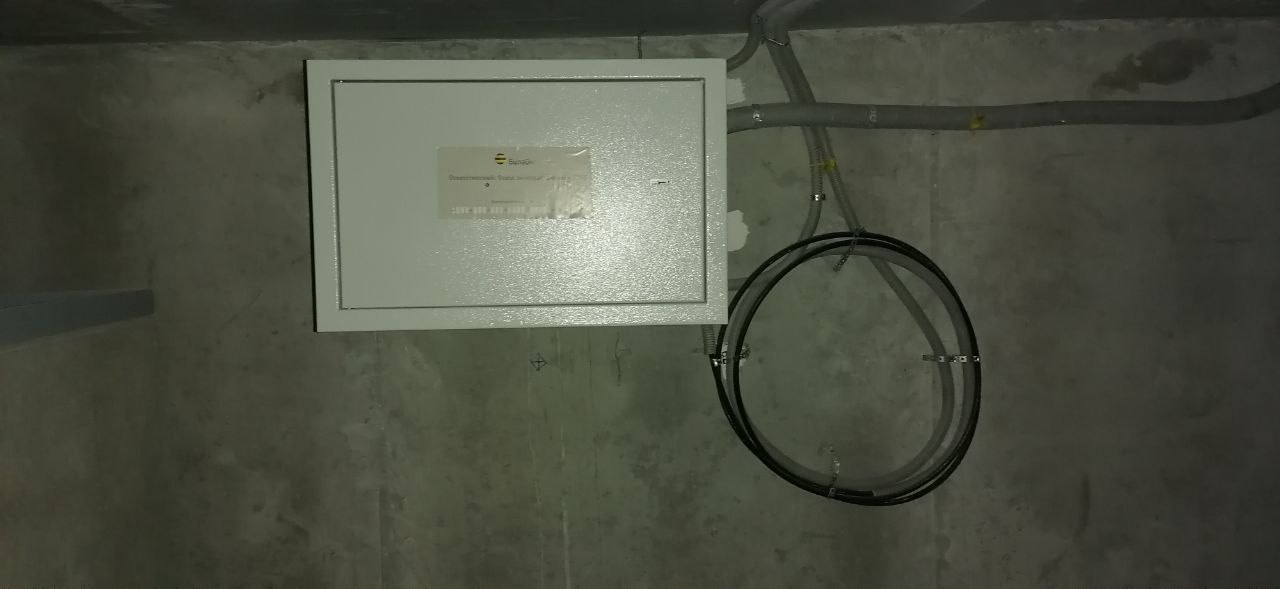shta-7m: (292, 41, 743, 340)
